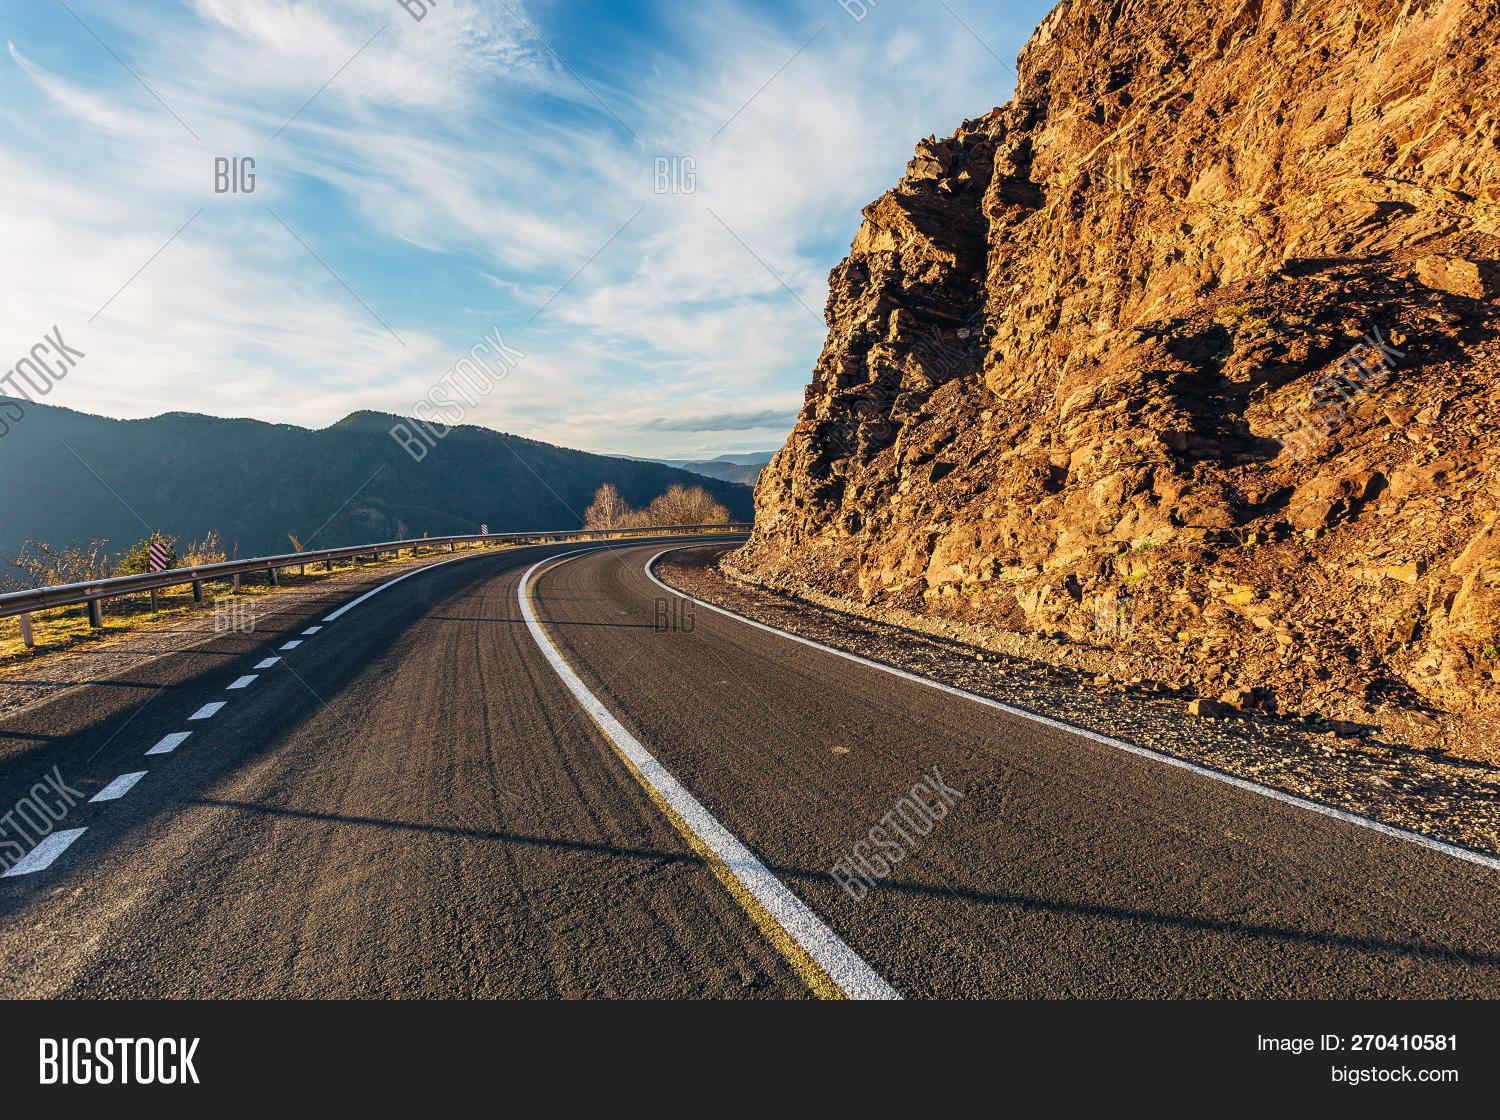rightTrun: (152, 466, 761, 919)
